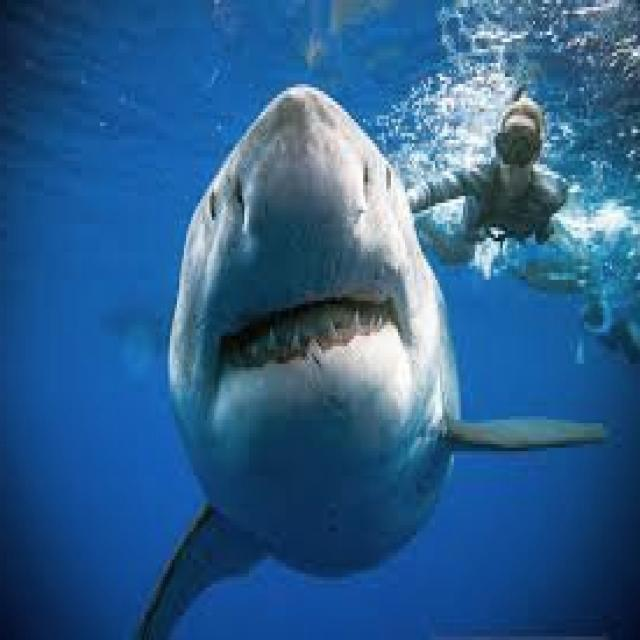shark: (137, 84, 605, 637)
